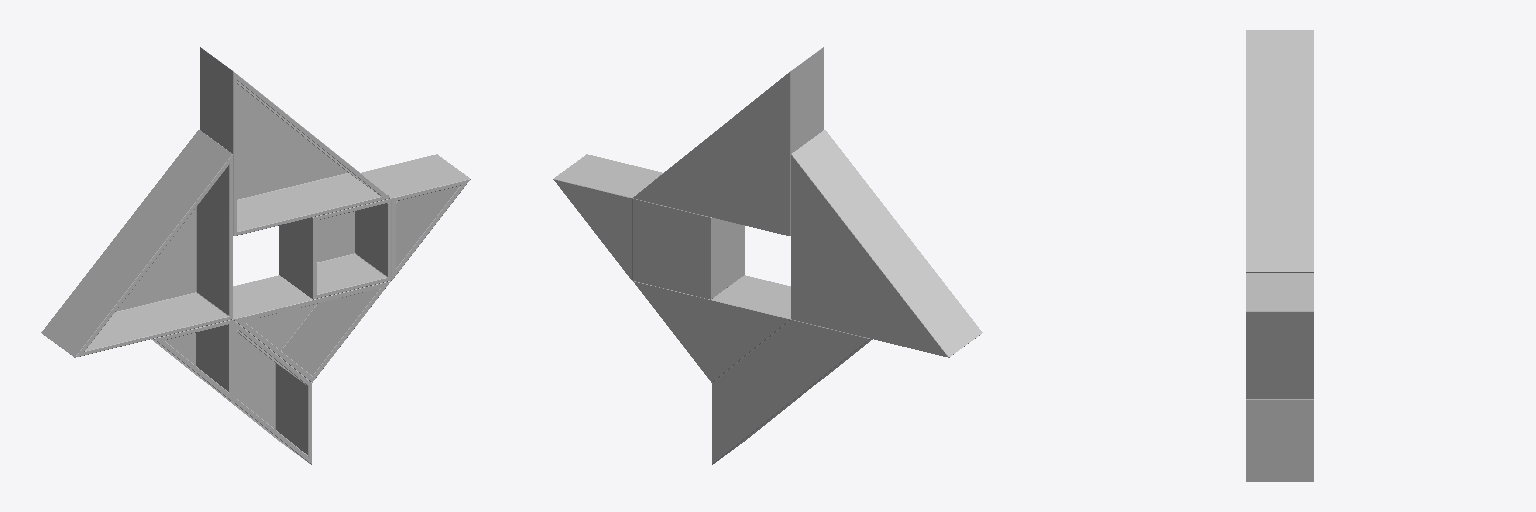
File: lago_tangram_9_obj.obj
3 renders of one model, left to right at view 1: azimuth 30°, elevation 25°; view 2: azimuth 150°, elevation 25°; view 3: azimuth 270°, elevation 25°, orthographic.
Visible parts, largest first — view 1: lago_tangram_9; view 2: lago_tangram_9; view 3: lago_tangram_9.
Boxes of the visible parts, x1=… form: lago_tangram_9: x1=41, y1=47, x2=470, y2=464; lago_tangram_9: x1=553, y1=47, x2=982, y2=464; lago_tangram_9: x1=1246, y1=30, x2=1313, y2=481.
Bounding box in the file's own units: 101 × 101 × 15.09.